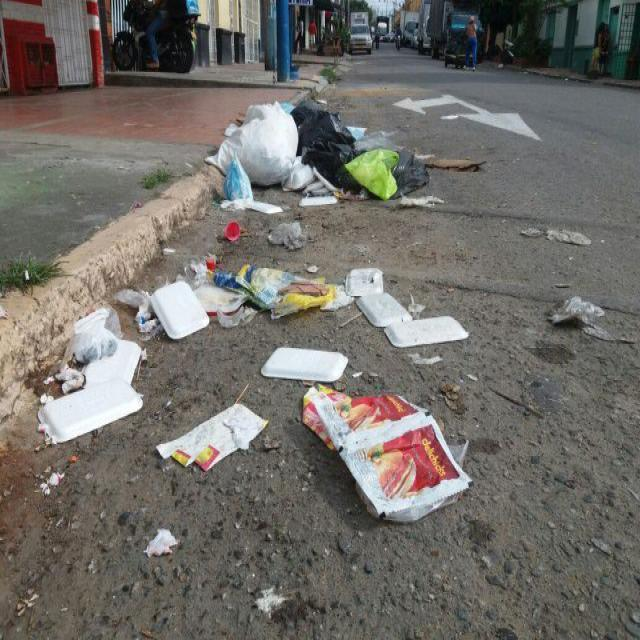Trashbag: (296, 139, 440, 194), (293, 98, 354, 143)
